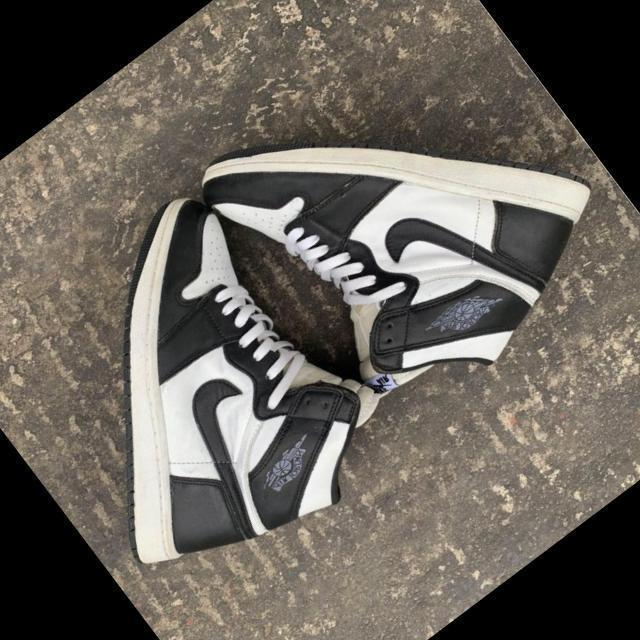nike fake jordan 1: (0, 171, 430, 640), (188, 0, 640, 445)
